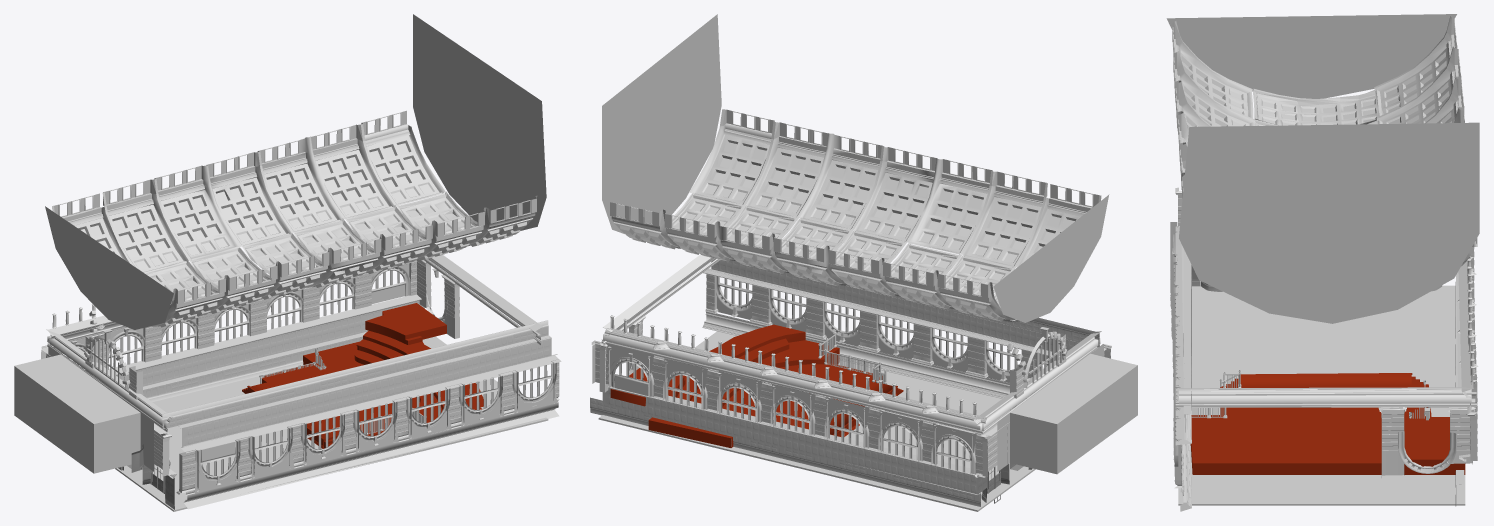
File: RCM_Main_Model.FBX
The picture shows the model from 3 angles, left to right: view 1: azimuth 30°, elevation 25°; view 2: azimuth 150°, elevation 25°; view 3: azimuth 270°, elevation 25°; orthographic projection. The views are drawn at different scales.
Parts seen in each view (by area): view 1: Roof, Big_Column018, Arc006, Internal_Wall, Floor, Stage, Box050, Stage_Stairs, Frieze_Big001, Frieze_Big002, Big_Column014, Big_Column011 (+1 smaller); view 2: Roof, Arc006, Big_Column018, Internal_Wall, Floor, Stage, Stage_Stairs, Frieze_Big001, Frieze_Big002, Railing006, Big_Column007, Box050; view 3: Roof, Floor, Stage, Big_Column018, Frieze_Big002, Stage_Stairs, Arc006, Box050, Big_Column014, Frieze_Middle002, Big_Column013, Arc010.
Part boxes in pixels (left/top/right/bottom): Roof: left=45, top=14, right=546, bottom=329; Big_Column018: left=162, top=320, right=561, bottom=509; Arc006: left=47, top=248, right=442, bottom=401; Internal_Wall: left=14, top=345, right=153, bottom=473; Floor: left=115, top=336, right=548, bottom=511; Stage: left=247, top=341, right=482, bottom=448; Box050: left=365, top=303, right=446, bottom=344; Stage_Stairs: left=354, top=330, right=483, bottom=422; Frieze_Big001: left=46, top=329, right=172, bottom=428; Frieze_Big002: left=428, top=255, right=542, bottom=339; Big_Column014: left=441, top=274, right=459, bottom=338; Big_Column011: left=154, top=423, right=172, bottom=476; Roof: left=602, top=14, right=1109, bottom=322; Arc006: left=590, top=327, right=987, bottom=506; Big_Column018: left=702, top=258, right=1099, bottom=399; Internal_Wall: left=997, top=344, right=1137, bottom=474; Floor: left=598, top=331, right=1035, bottom=511; Stage: left=648, top=353, right=897, bottom=447; Stage_Stairs: left=677, top=324, right=839, bottom=407; Frieze_Big001: left=974, top=331, right=1101, bottom=431; Frieze_Big002: left=603, top=254, right=715, bottom=335; Railing006: left=824, top=349, right=886, bottom=384; Big_Column007: left=979, top=423, right=1008, bottom=476; Box050: left=610, top=368, right=685, bottom=406; Roof: left=1166, top=14, right=1479, bottom=323; Floor: left=1178, top=285, right=1465, bottom=505; Stage: left=1190, top=373, right=1465, bottom=474; Big_Column018: left=1170, top=222, right=1191, bottom=511; Frieze_Big002: left=1179, top=387, right=1471, bottom=404; Stage_Stairs: left=1191, top=415, right=1427, bottom=455; Arc006: left=1455, top=247, right=1477, bottom=506; Box050: left=1404, top=426, right=1465, bottom=469; Big_Column014: left=1378, top=407, right=1406, bottom=477; Frieze_Middle002: left=1175, top=402, right=1476, bottom=407; Big_Column013: left=1447, top=406, right=1475, bottom=464; Arc010: left=1398, top=431, right=1456, bottom=473.
Size of the model in its own units: 1522 by 1075 by 775.
